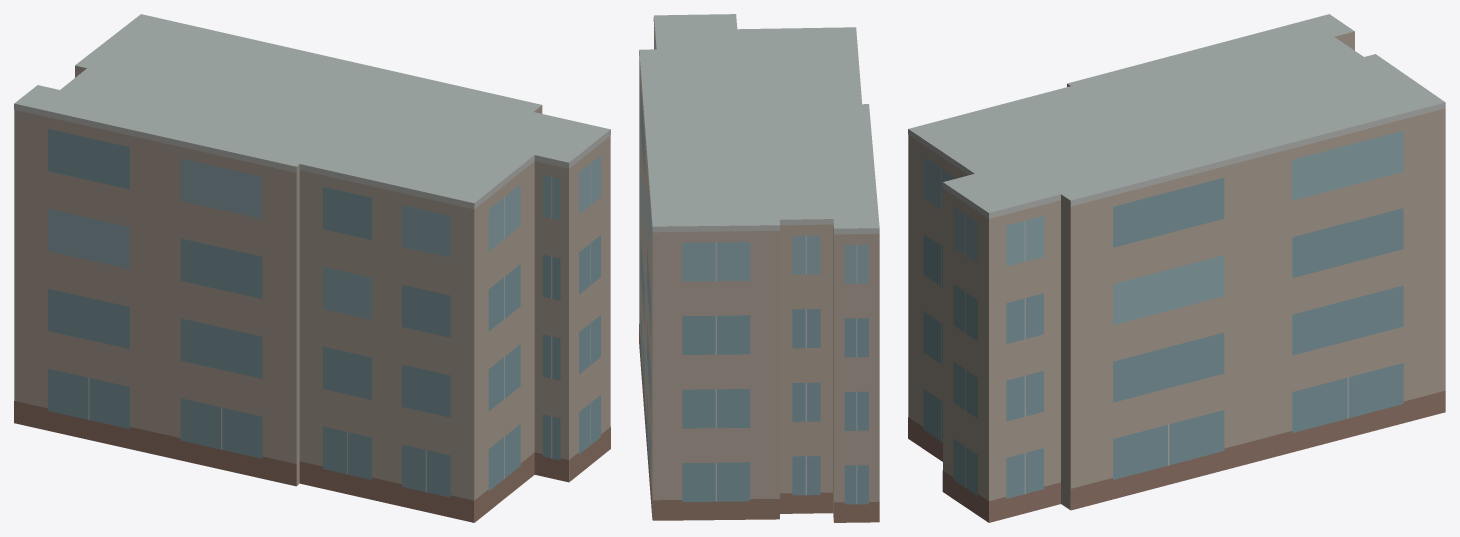
Rendered from survey-upis-32789176.glb.
3 views of the same model, side by side, from view 1: azimuth 30°, elevation 25°; view 2: azimuth 150°, elevation 25°; view 3: azimuth 270°, elevation 25° (orthographic). The views are drawn at different scales.
Visible parts, largest first — view 1: survey-upis-32789176.tmp; view 2: survey-upis-32789176.tmp; view 3: survey-upis-32789176.tmp.
Boxes of the visible parts, x1,y1,x2,y2 form: survey-upis-32789176.tmp: (14,14,610,522); survey-upis-32789176.tmp: (639,14,879,522); survey-upis-32789176.tmp: (908,14,1445,522).
Size of the model in its own units: 17.66 by 12.8 by 20.14.
